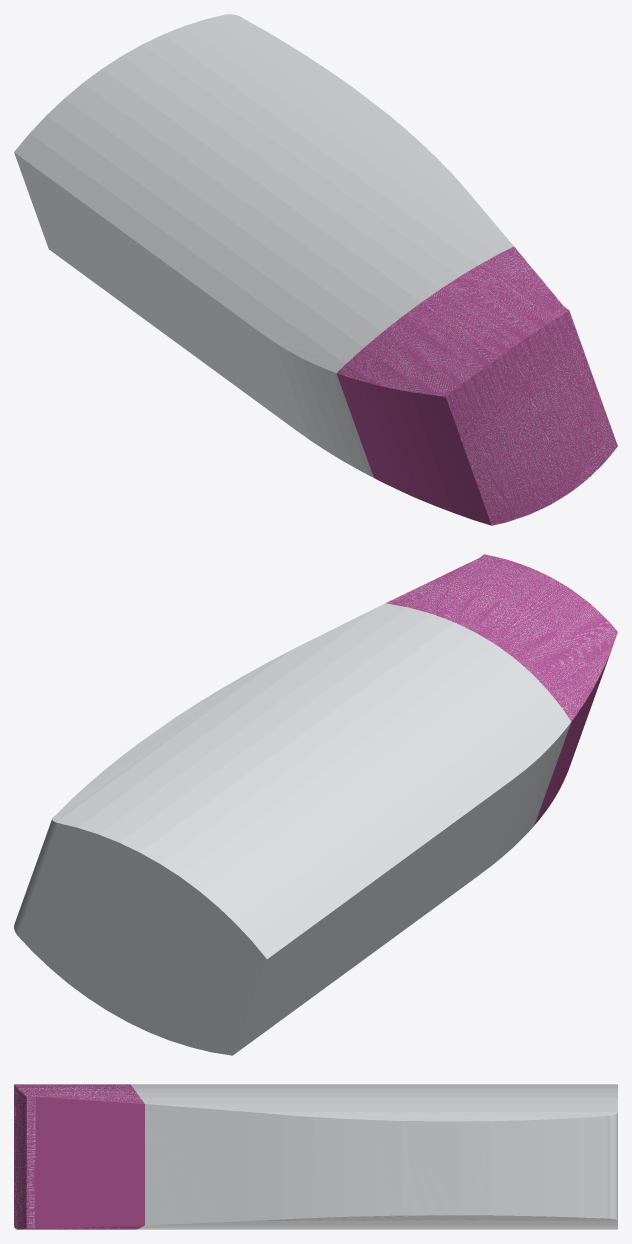
3 views of the same model, one above another, from view 1: azimuth 30°, elevation 25°; view 2: azimuth 150°, elevation 25°; view 3: azimuth 270°, elevation 25° (orthographic). The views are drawn at different scales.
Parts seen in each view (by area): view 1: advance techniques color reviving shampoo; view 2: advance techniques color reviving shampoo; view 3: advance techniques color reviving shampoo.
Boxes of the visible parts, x1,y1,x2,y2 form: advance techniques color reviving shampoo: (14,14,617,525); advance techniques color reviving shampoo: (14,554,617,1055); advance techniques color reviving shampoo: (14,1084,617,1229).
Size of the model in its own units: 2.52 by 1.73 by 6.41.
